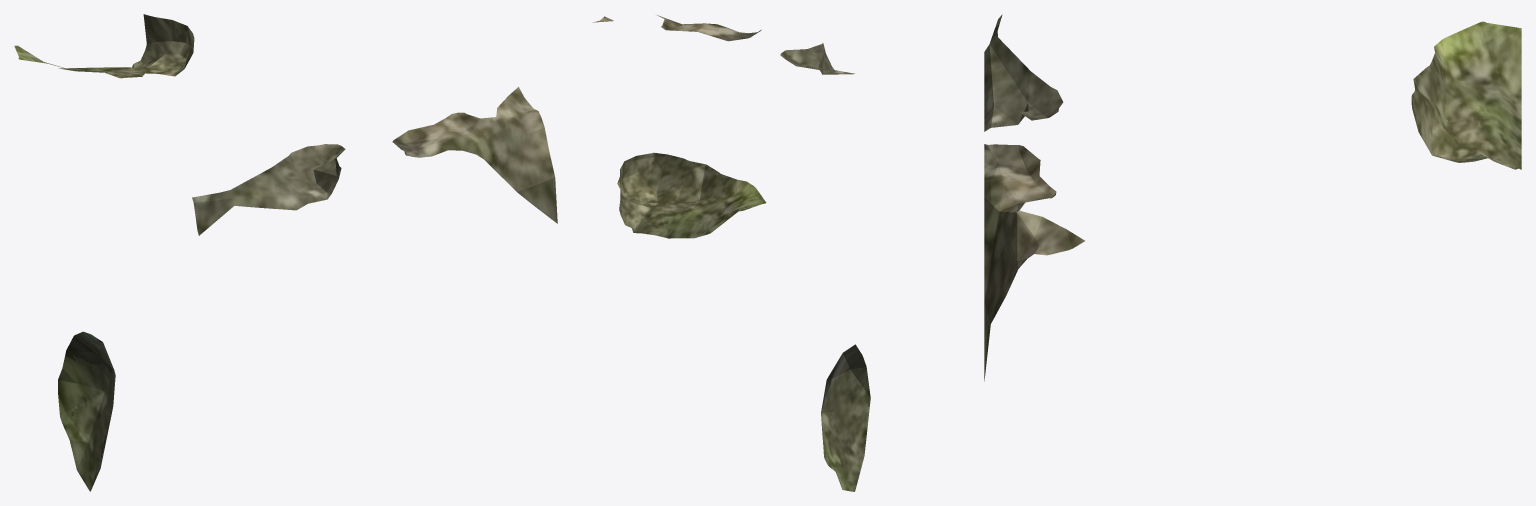
3 renders of one model, left to right at view 1: azimuth 30°, elevation 25°; view 2: azimuth 150°, elevation 25°; view 3: azimuth 270°, elevation 25°, orthographic. The views are drawn at different scales.
Size of the model in its own units: 2.95 by 2.9 by 2.95.
1 material, 1 textured.
